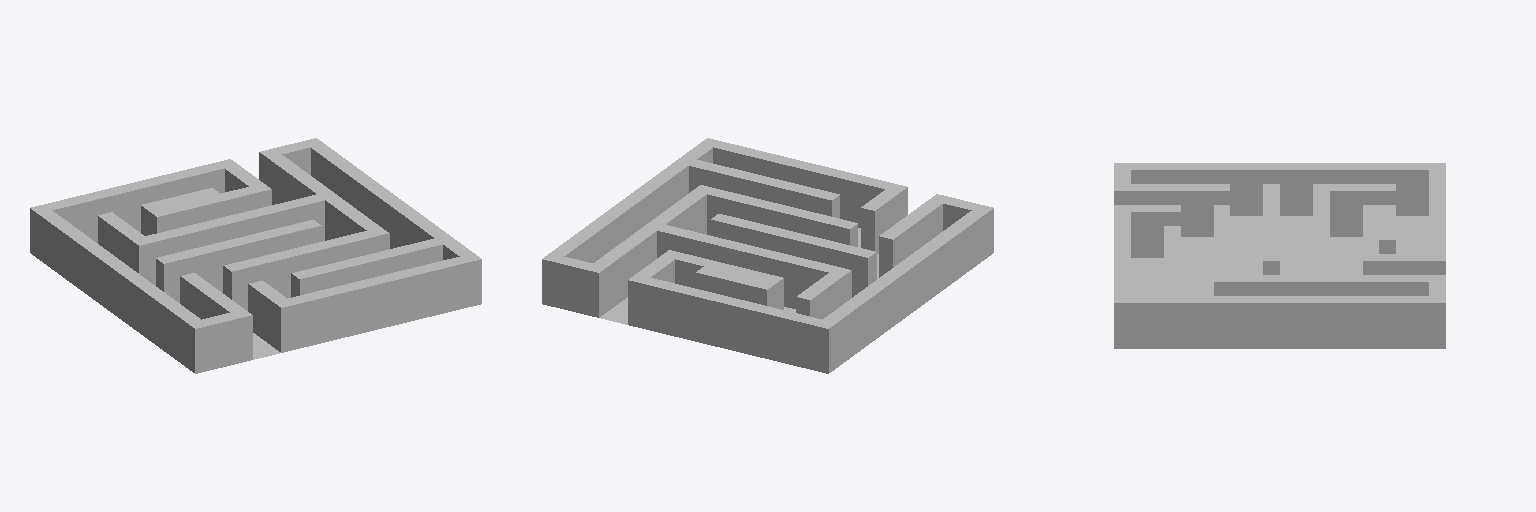
The model's file is maze.obj.
3 renders of one model, left to right at view 1: azimuth 30°, elevation 25°; view 2: azimuth 150°, elevation 25°; view 3: azimuth 270°, elevation 25°, orthographic.
Visible parts, largest first — view 1: Plane001; view 2: Plane001; view 3: Plane001.
Part boxes in pixels (left/top/right/bottom): Plane001: left=30, top=138, right=481, bottom=373; Plane001: left=542, top=138, right=993, bottom=373; Plane001: left=1114, top=163, right=1445, bottom=348.
Bounding box in the file's own units: 2000 × 300 × 2000.